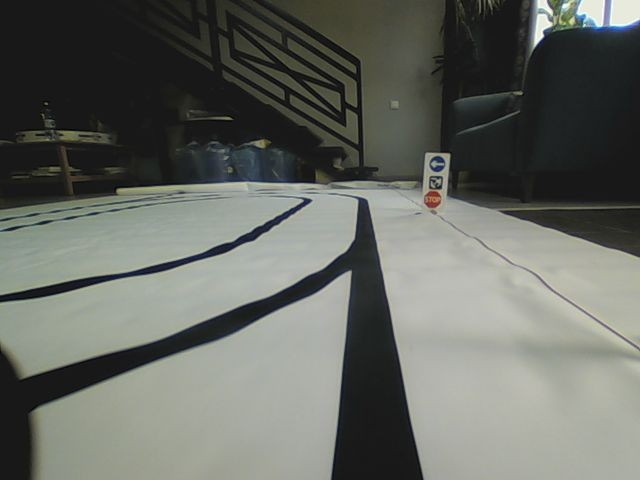Stop: (422, 191, 441, 208)
